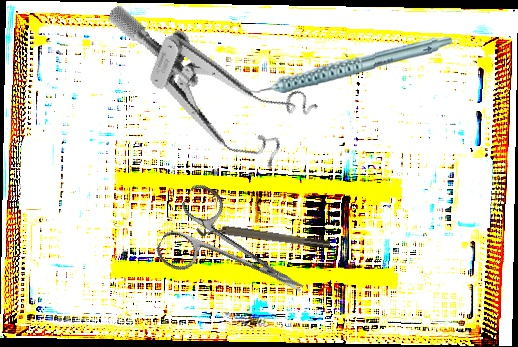Fixation Ring: (195, 217, 331, 257)
Handpiece: (238, 35, 454, 94)
Iris Scissors: (151, 180, 323, 330)
Speculum: (78, 3, 327, 177)
